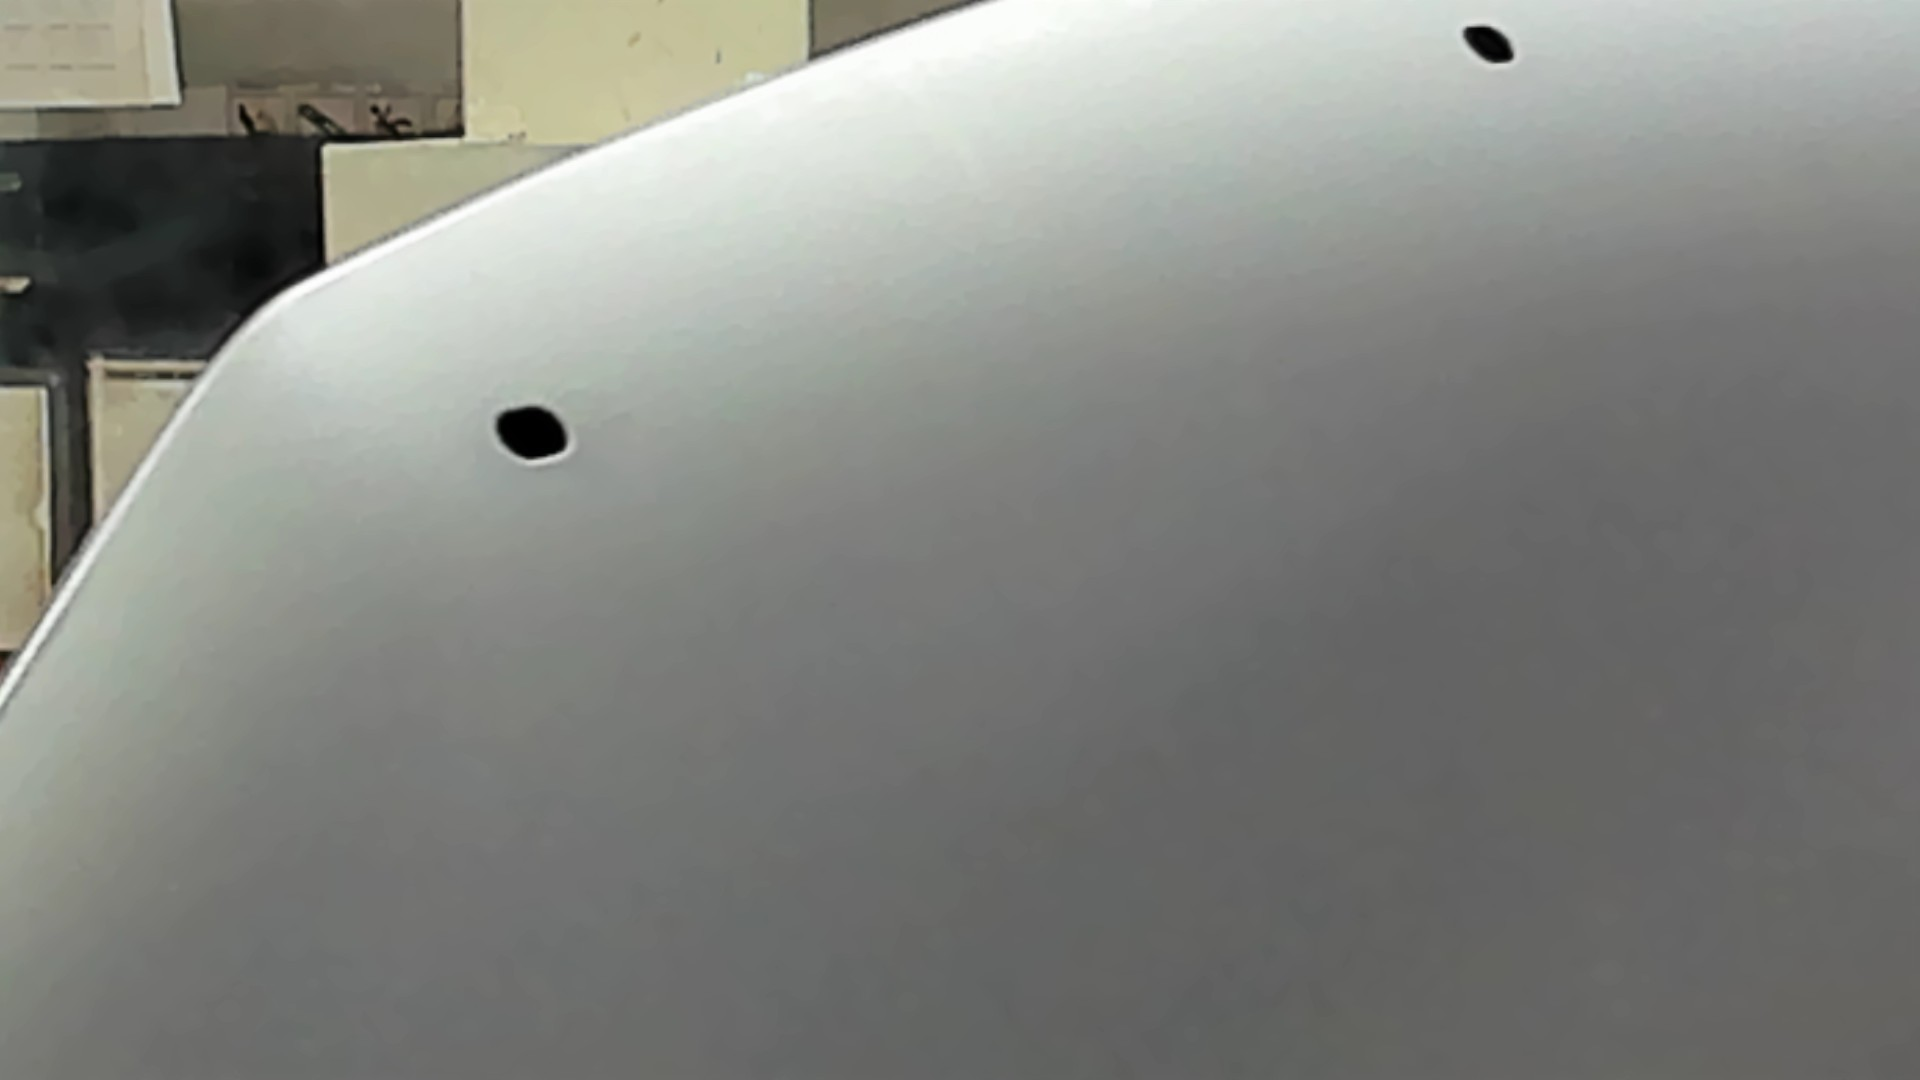chico: (480, 392, 587, 477), (1455, 15, 1519, 78)
